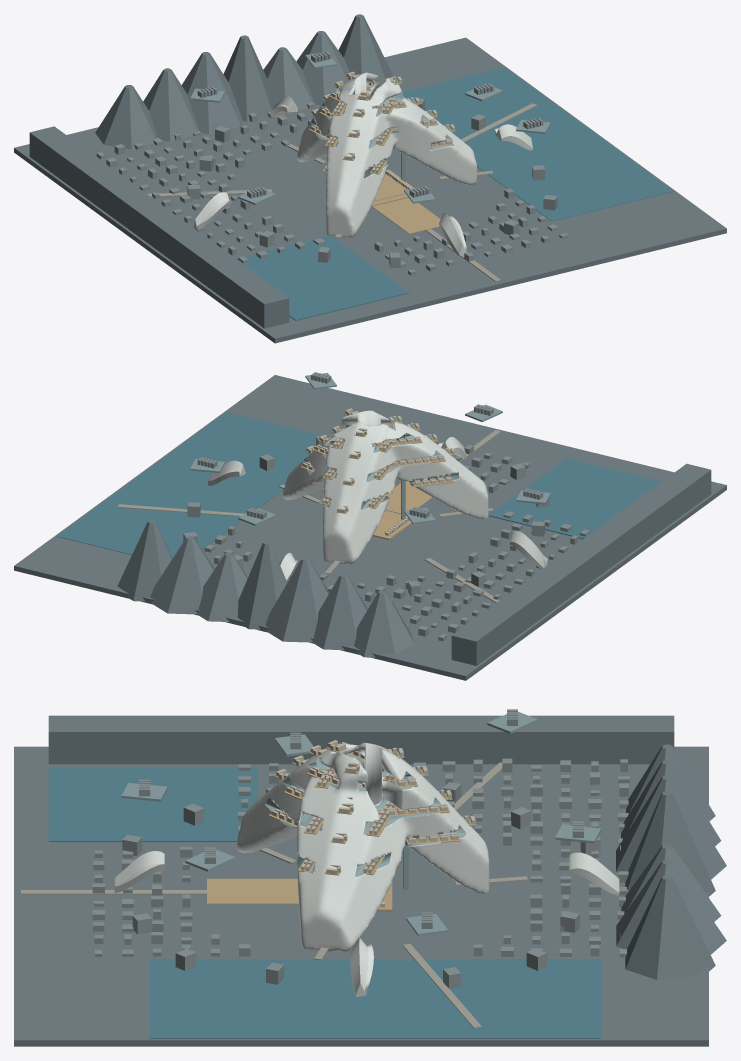
Rendered from A_CITY.glb.
The picture shows the model from 3 angles, top to bottom: view 1: azimuth 30°, elevation 25°; view 2: azimuth 150°, elevation 25°; view 3: azimuth 270°, elevation 25°; orthographic projection. The views are drawn at different scales.
Visible parts, largest first — view 1: abstract_10km_urban_ground, east_artificial_inland_sea, CIVIC_CONTINUOUS_MASS_A, abstract_west_cliff, southwest_negative_space, abstract_north_mountain.002, abstract_north_mountain.003, abstract_north_mountain.001, abstract_north_mountain, abstract_north_mountain.006, abstract_north_mountain.005, abstract_north_mountain.004 (+5 smaller); view 2: abstract_10km_urban_ground, east_artificial_inland_sea, CIVIC_CONTINUOUS_MASS_A, abstract_west_cliff, southwest_negative_space, abstract_north_mountain.002, abstract_north_mountain.005, abstract_north_mountain.001, abstract_north_mountain.003, abstract_north_mountain, abstract_north_mountain.006, abstract_north_mountain.004 (+4 smaller); view 3: abstract_10km_urban_ground, east_artificial_inland_sea, abstract_west_cliff, CIVIC_CONTINUOUS_MASS_A, southwest_negative_space, abstract_north_mountain.006, abstract_north_mountain.003, abstract_north_mountain.002, abstract_north_mountain.005, arrival_court, abstract_north_mountain.004, abstract_north_mountain.001 (+6 smaller).
Boxes of the visible parts, x1,y1,x2,y2 form: abstract_10km_urban_ground: (14,37,726,343); east_artificial_inland_sea: (402,67,673,221); CIVIC_CONTINUOUS_MASS_A: (297,72,476,237); abstract_west_cliff: (29,126,289,328); southwest_negative_space: (235,235,408,320); abstract_north_mountain.002: (181,52,242,133); abstract_north_mountain.003: (223,35,273,121); abstract_north_mountain.001: (143,68,199,141); abstract_north_mountain: (95,85,157,149); abstract_north_mountain.006: (338,14,392,86); abstract_north_mountain.005: (296,31,349,105); abstract_north_mountain.004: (263,47,314,112); abstract_10km_urban_ground: (14,375,726,680); east_artificial_inland_sea: (57,412,329,558); CIVIC_CONTINUOUS_MASS_A: (282,410,488,564); abstract_west_cliff: (451,463,711,665); southwest_negative_space: (488,458,661,538); abstract_north_mountain.002: (265,557,329,642); abstract_north_mountain.005: (150,536,214,614); abstract_north_mountain.001: (312,574,367,650); abstract_north_mountain.003: (237,541,286,629); abstract_north_mountain: (354,590,414,657); abstract_north_mountain.006: (117,520,172,601); abstract_north_mountain.004: (197,552,247,621); abstract_10km_urban_ground: (14,746,708,1046); east_artificial_inland_sea: (149,959,601,1038); abstract_west_cliff: (48,715,674,764); CIVIC_CONTINUOUS_MASS_A: (237,742,489,951); southwest_negative_space: (48,767,257,841); abstract_north_mountain.006: (625,875,715,979); abstract_north_mountain.003: (625,791,715,896); abstract_north_mountain.002: (616,775,726,879); abstract_north_mountain.005: (616,859,726,954); arrival_court: (207,878,298,904); abstract_north_mountain.004: (621,844,721,921); abstract_north_mountain.001: (621,760,721,845).
Size of the model in its own units: 10000 by 2403 by 10260.
